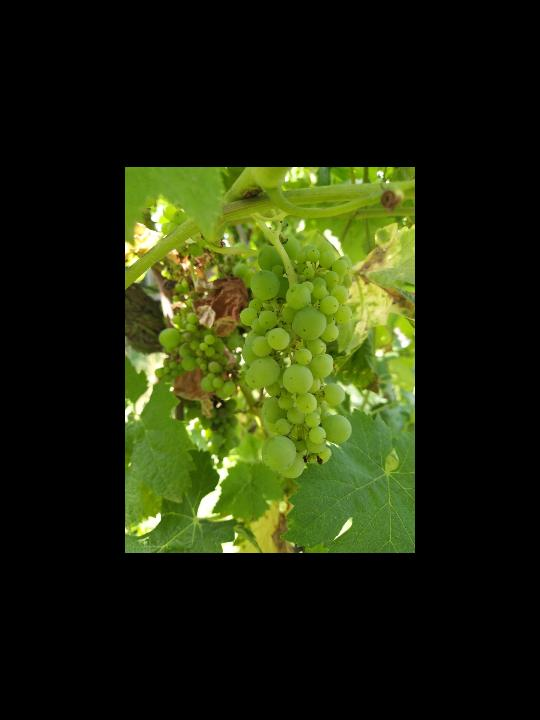grape: (241, 234, 353, 480)
